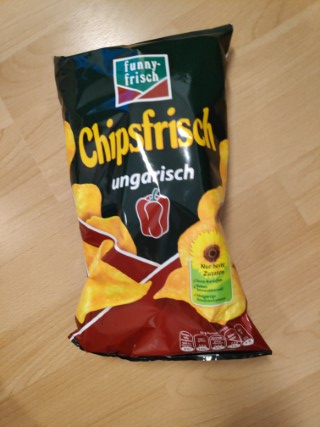chipsfrisch: (51, 22, 276, 360)
